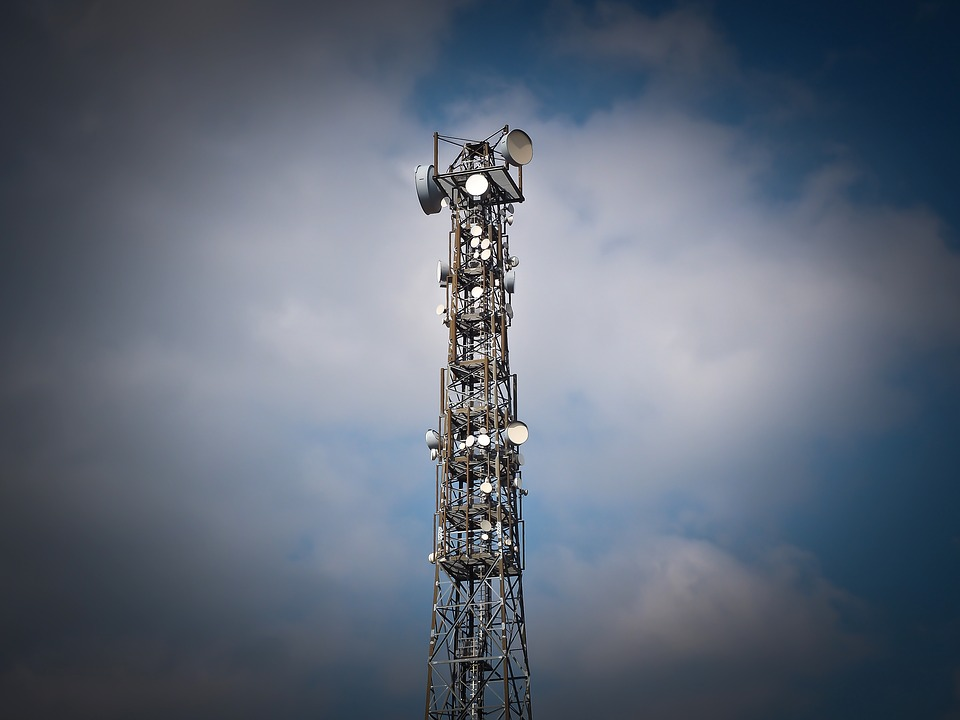b: (500, 128, 535, 171), (415, 164, 441, 214), (504, 420, 529, 449), (467, 174, 485, 197), (437, 261, 451, 286), (426, 429, 443, 449), (504, 270, 517, 293), (470, 287, 484, 299), (477, 434, 490, 446), (480, 520, 491, 532), (434, 302, 444, 315), (470, 227, 482, 237), (481, 251, 490, 261), (467, 436, 474, 446)
